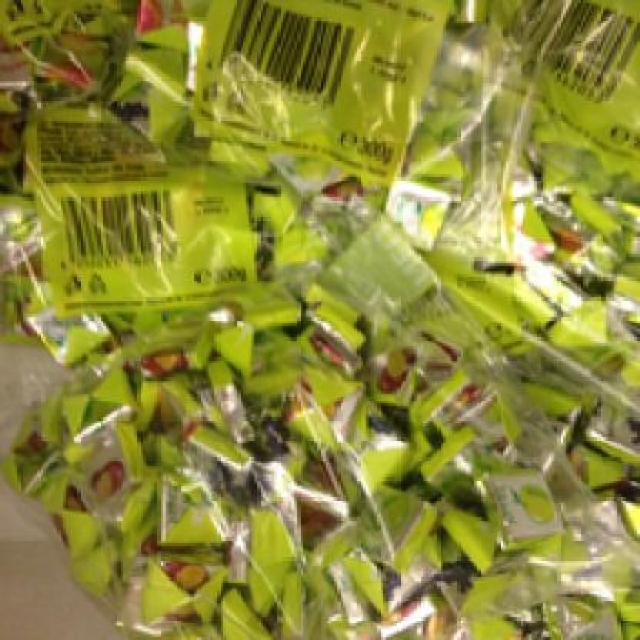Candy: (26, 276, 568, 630), (148, 0, 632, 217)
